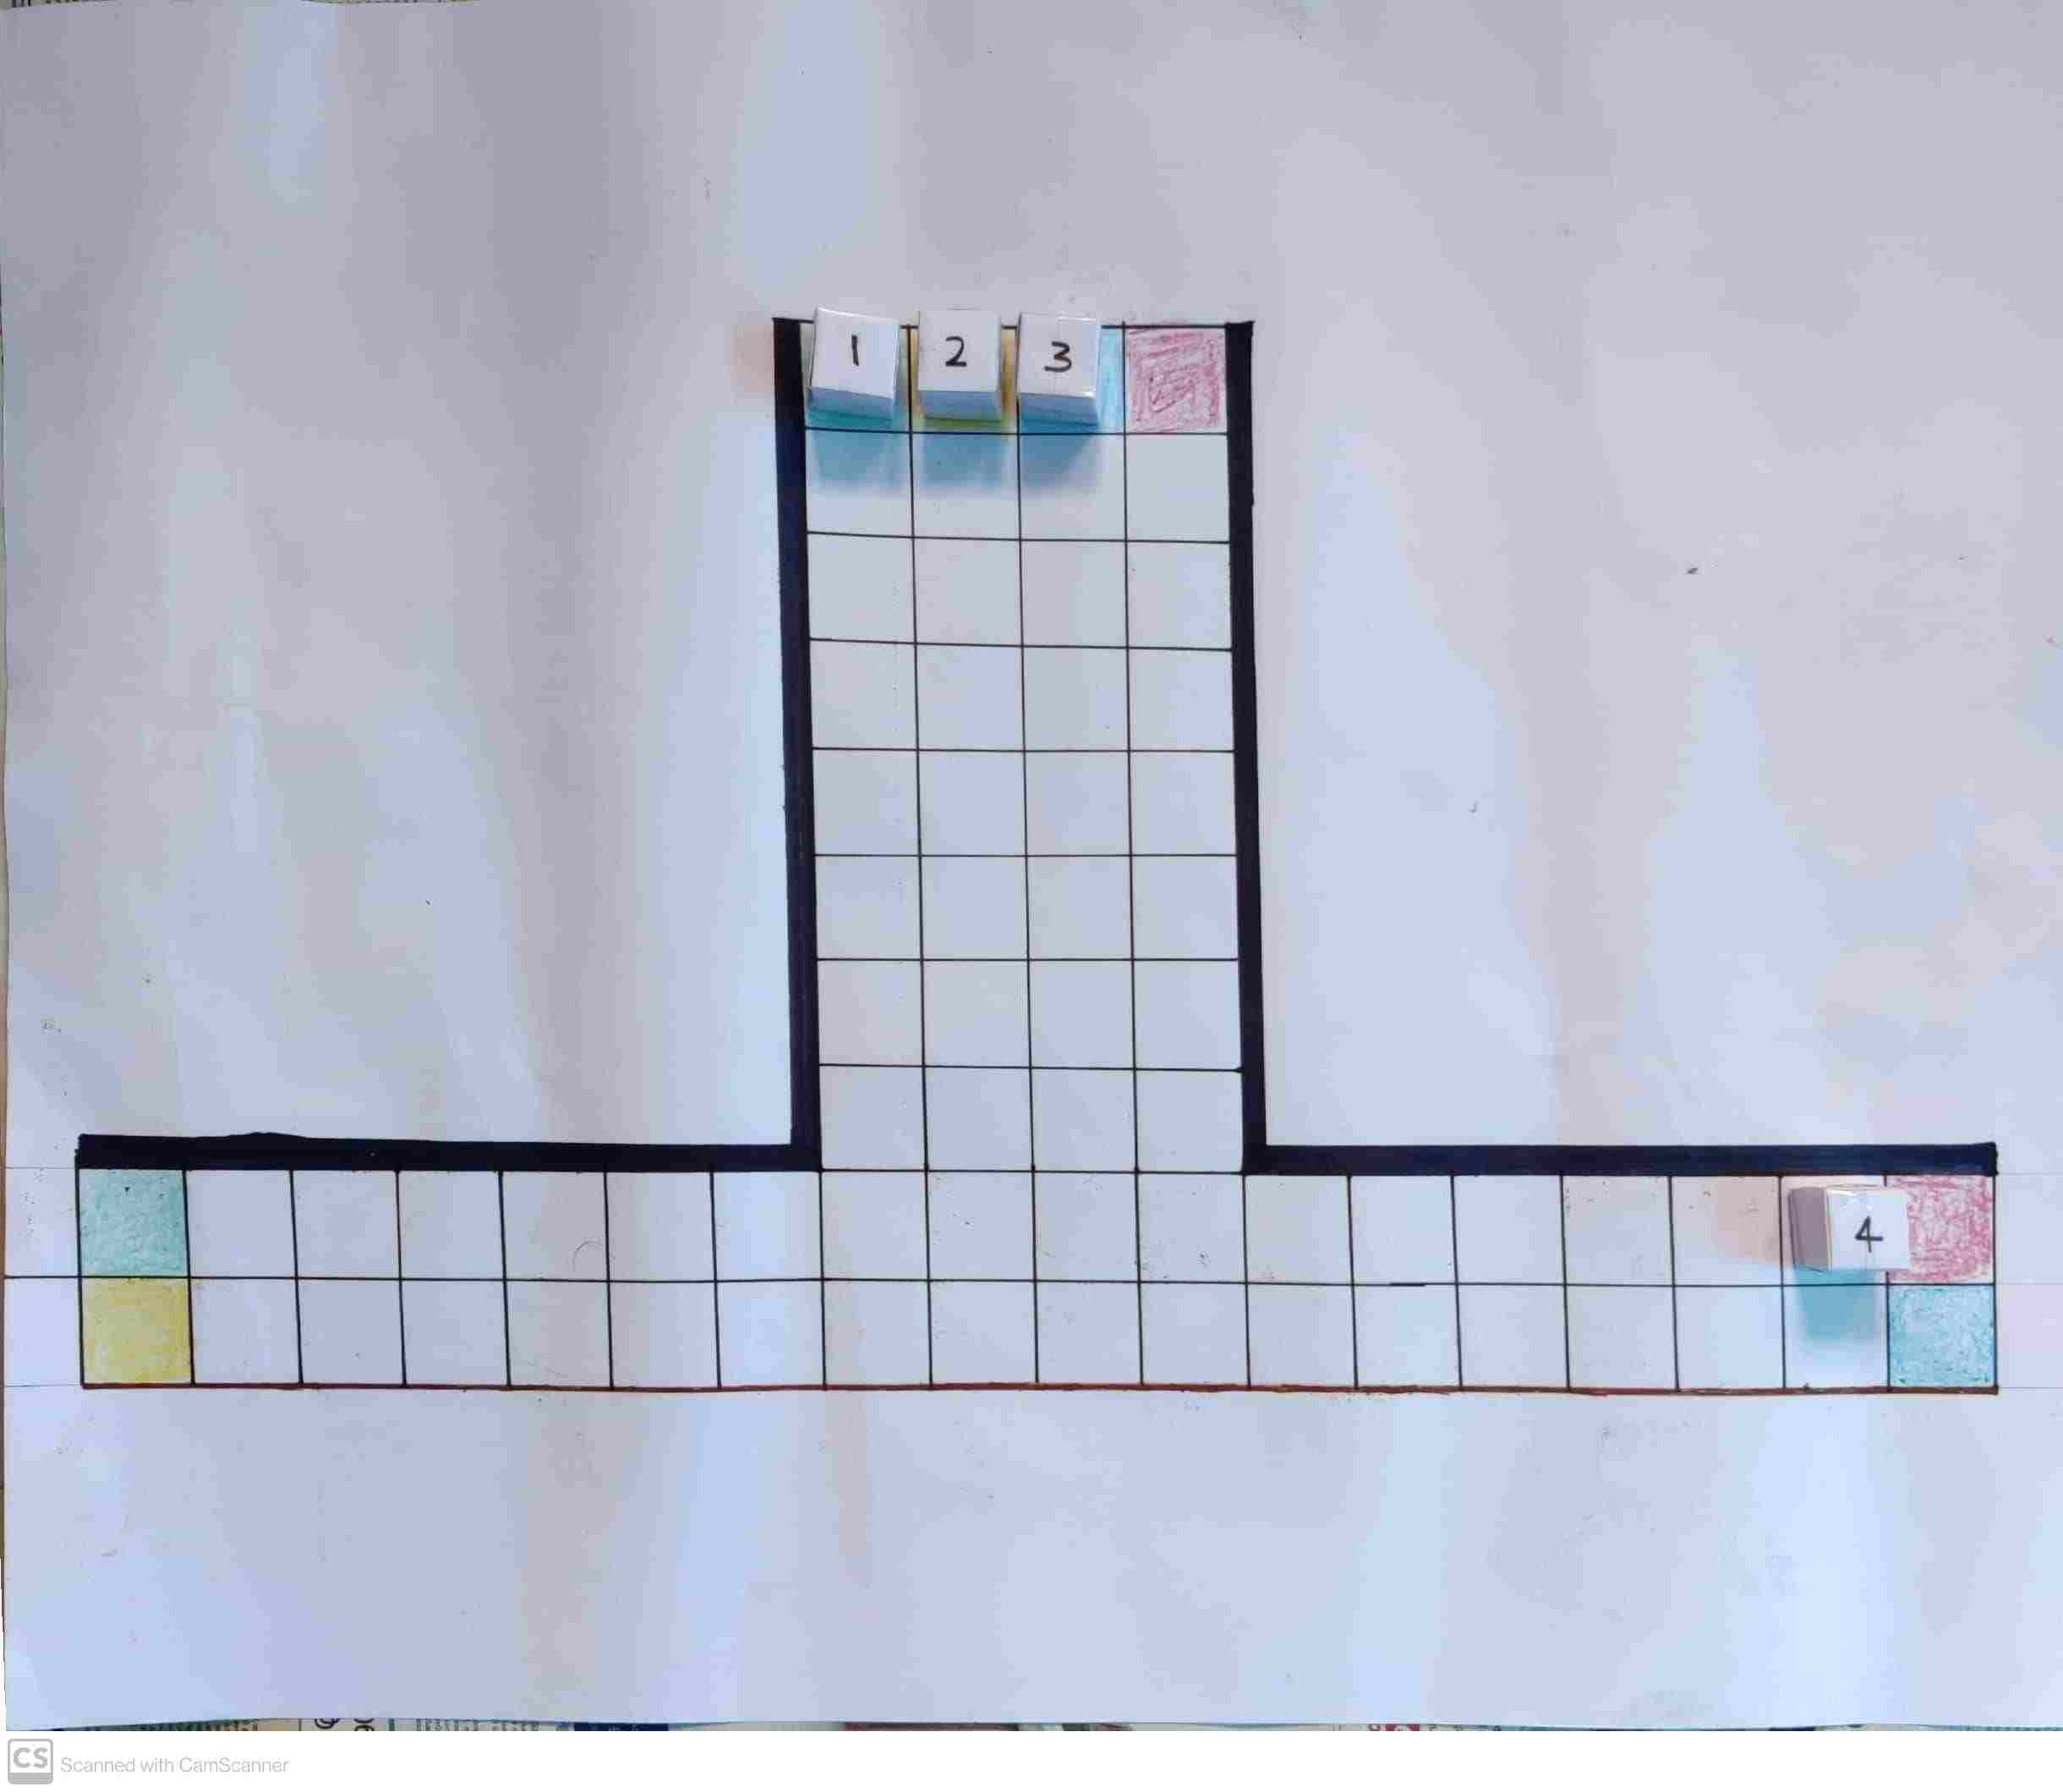arena: (74, 316, 2003, 1397)
bot: (817, 312, 902, 400), (1826, 1184, 1910, 1271), (1016, 319, 1100, 395), (919, 319, 998, 395)
